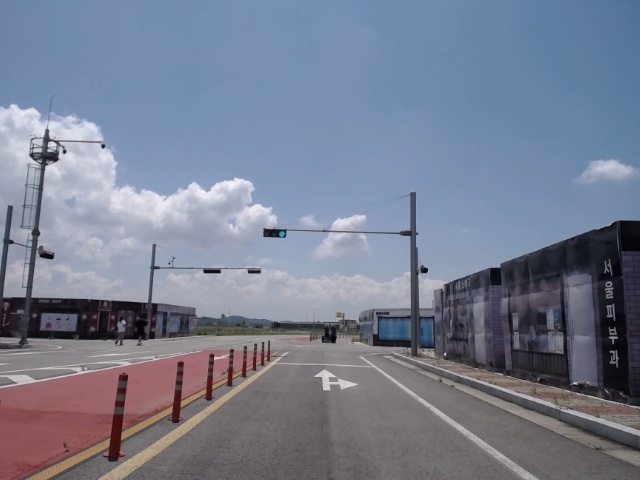green_3: (263, 228, 286, 237)
